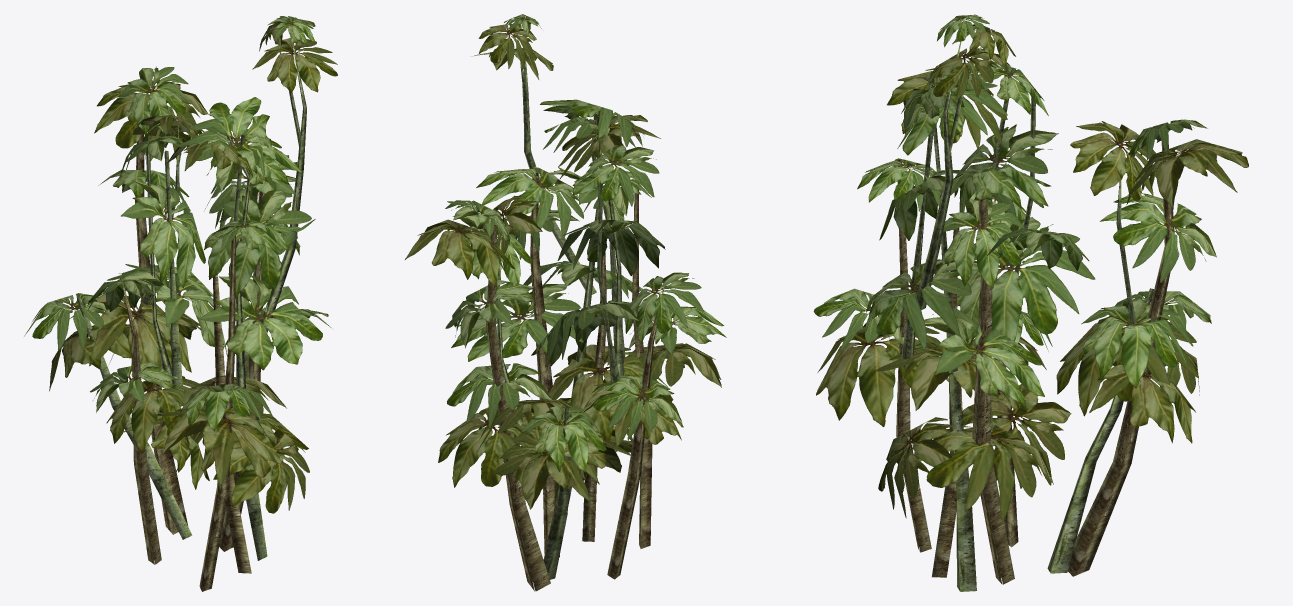
Rendered from S_Tree_Green059.FBX.
The picture shows the model from 3 angles, left to right: view 1: azimuth 30°, elevation 25°; view 2: azimuth 150°, elevation 25°; view 3: azimuth 270°, elevation 25°; orthographic projection. The views are drawn at different scales.
Visible parts, largest first — view 1: S_Tree_Green059; view 2: S_Tree_Green059; view 3: S_Tree_Green059.
Boxes of the visible parts, bbox=[...] form: S_Tree_Green059: bbox=[24, 16, 337, 591]; S_Tree_Green059: bbox=[405, 14, 726, 591]; S_Tree_Green059: bbox=[813, 14, 1248, 591].
Size of the model in its own units: 217 by 299 by 395.
